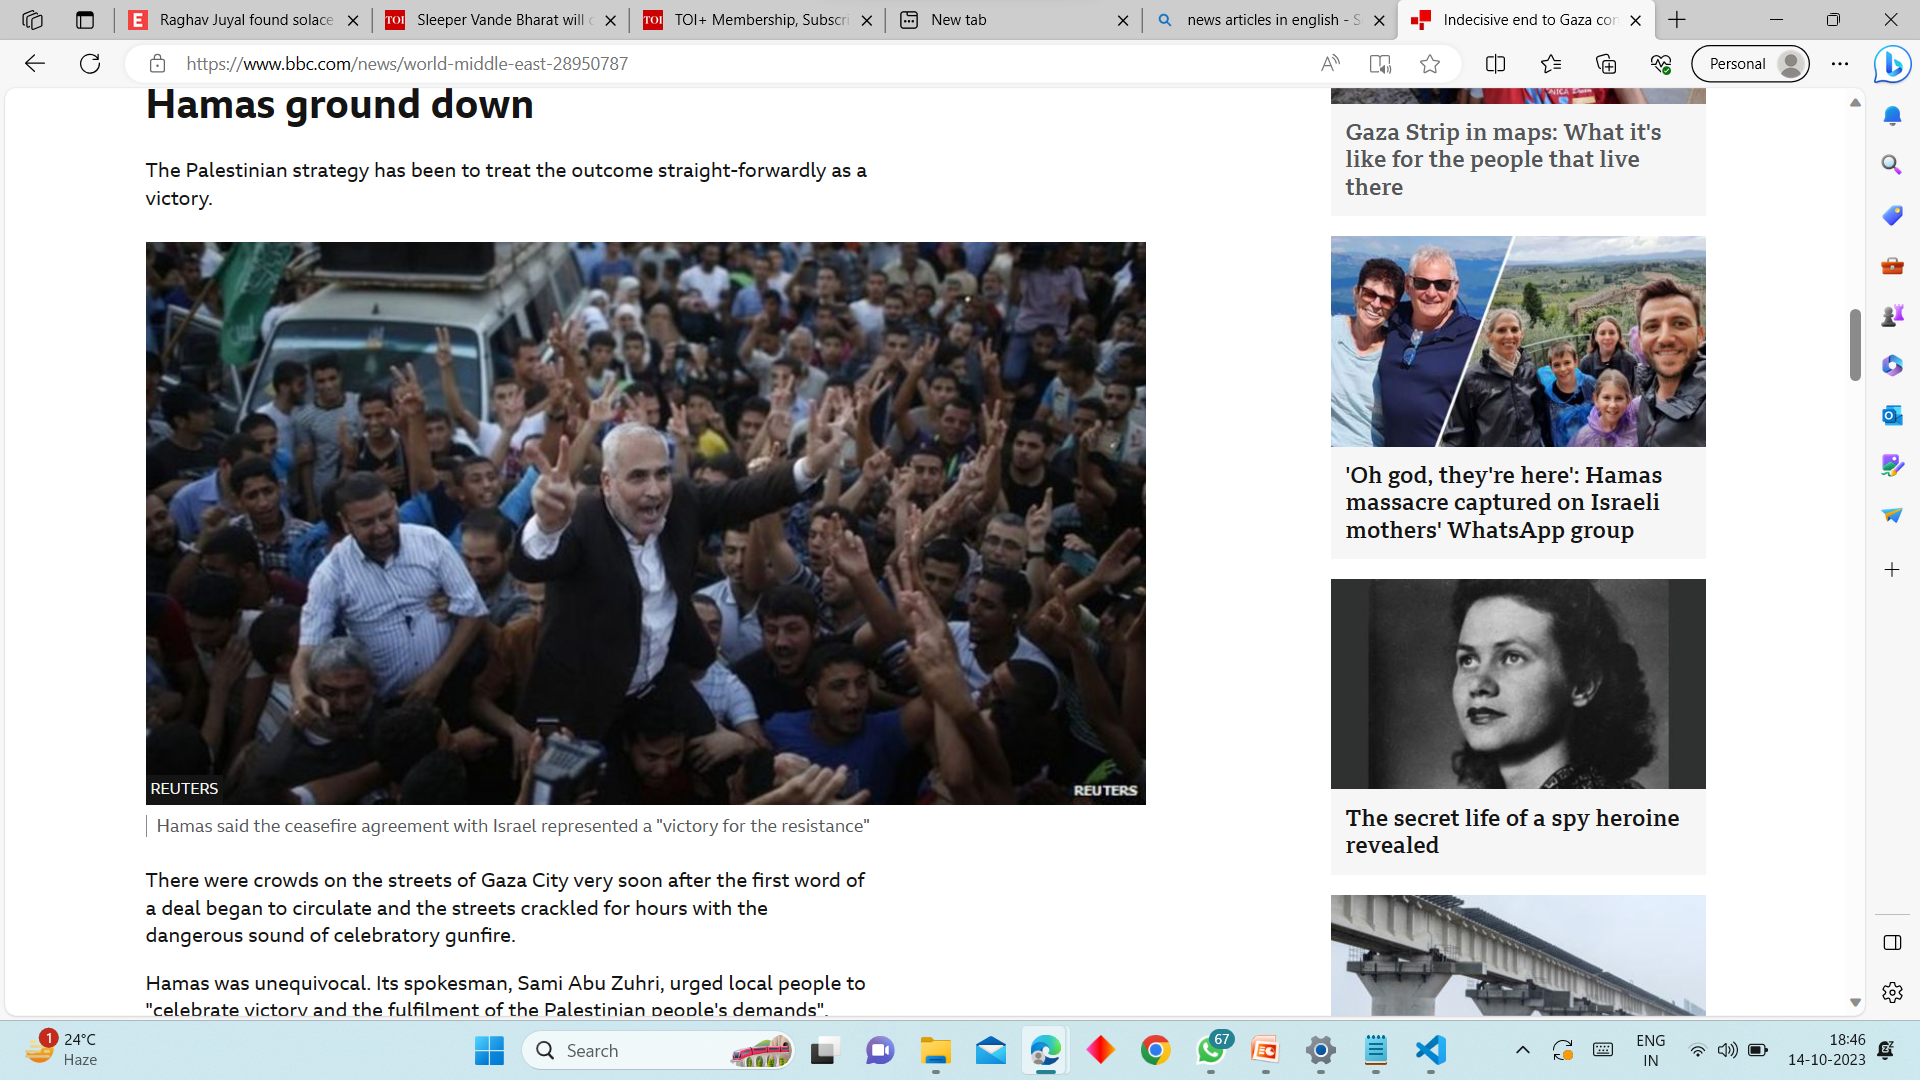Image: (145, 247, 1167, 807), (1328, 239, 1697, 447), (1337, 582, 1706, 790), (1331, 897, 1720, 1010)
Paragraph: (141, 870, 890, 957), (144, 154, 884, 225), (1341, 450, 1675, 556), (150, 975, 868, 1018), (1341, 116, 1681, 203), (145, 814, 887, 852), (1350, 794, 1679, 870), (144, 90, 562, 128)
